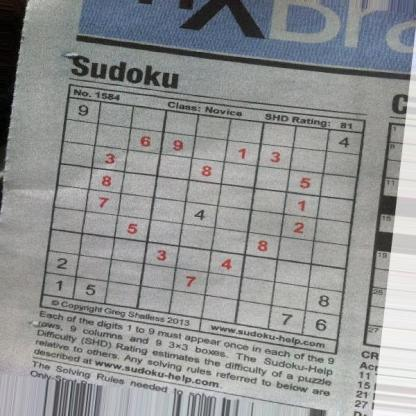sudoku: (40, 94, 366, 344)
